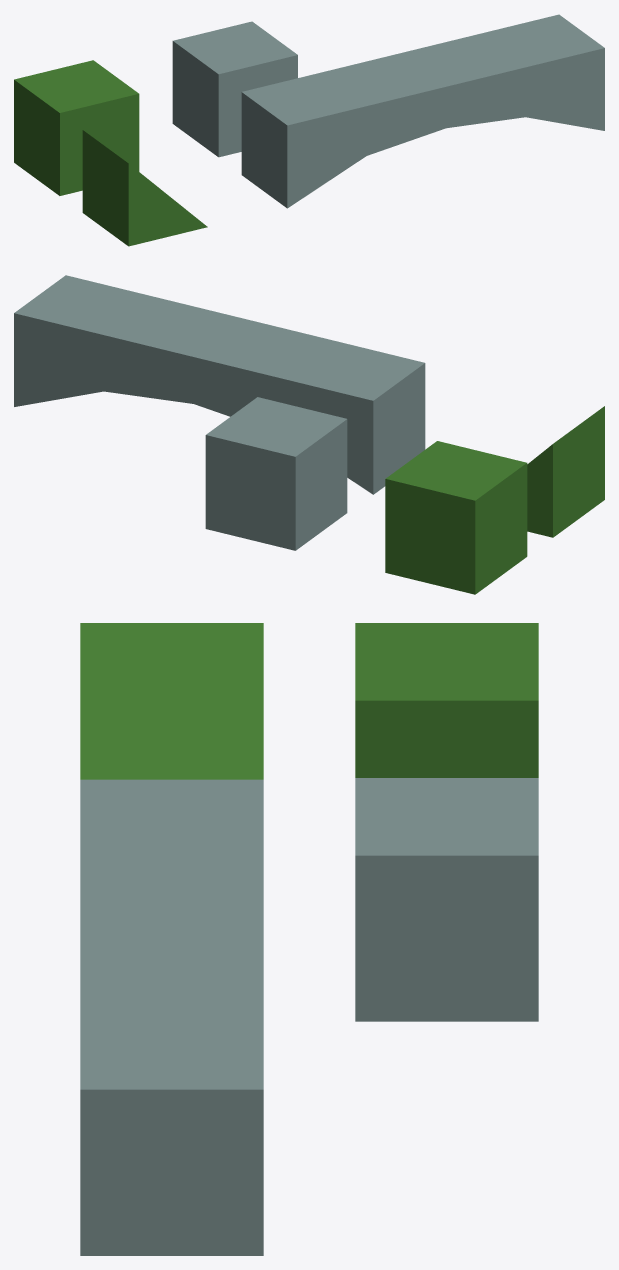
The model's file is Terrain.glb.
3 renders of one model, top to bottom at view 1: azimuth 30°, elevation 25°; view 2: azimuth 150°, elevation 25°; view 3: azimuth 270°, elevation 25°, orthographic. The views are drawn at different scales.
Visible parts, largest first — view 1: GrassCube.002, GrassCube, GrassCube.001, GrassSloped; view 2: GrassCube.002, GrassCube.001, GrassCube, GrassSloped; view 3: GrassCube.002, GrassCube.001, GrassSloped, GrassCube.
Part boxes in pixels (left/top/right/bottom): GrassCube.002: left=241, top=14, right=604, bottom=208; GrassCube: left=14, top=60, right=139, bottom=195; GrassCube.001: left=172, top=21, right=297, bottom=157; GrassSloped: left=82, top=130, right=207, bottom=246; GrassCube.002: left=14, top=275, right=425, bottom=494; GrassCube.001: left=205, top=397, right=347, bottom=550; GrassCube: left=385, top=441, right=527, bottom=594; GrassSloped: left=527, top=406, right=604, bottom=537; GrassCube.002: left=80, top=779, right=263, bottom=1255; GrassCube.001: left=355, top=778, right=538, bottom=1021; GrassSloped: left=80, top=623, right=263, bottom=779; GrassCube: left=355, top=623, right=538, bottom=777.
Size of the model in its own units: 6 by 1.01 by 2.5.
Materials: 1 (1 with a texture image).
